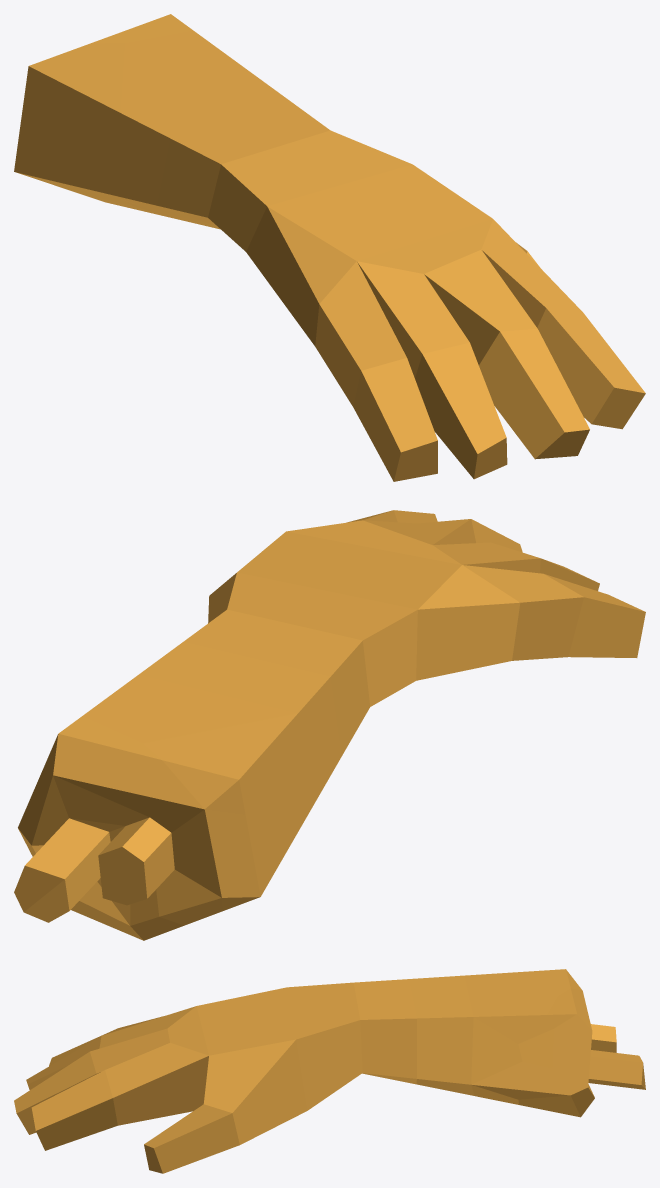
File: hand-severed.fbx
3 renders of one model, top to bottom at view 1: azimuth 30°, elevation 25°; view 2: azimuth 150°, elevation 25°; view 3: azimuth 270°, elevation 25°, orthographic. The views are drawn at different scales.
Visible parts, largest first — view 1: hand-severed; view 2: hand-severed; view 3: hand-severed.
Part boxes in pixels (<box>): hand-severed: <box>14,14,645,481</box>; hand-severed: <box>14,510,645,940</box>; hand-severed: <box>14,969,645,1173</box>.
Size of the model in its own units: 0.1223 by 0.0675 by 0.3231.
